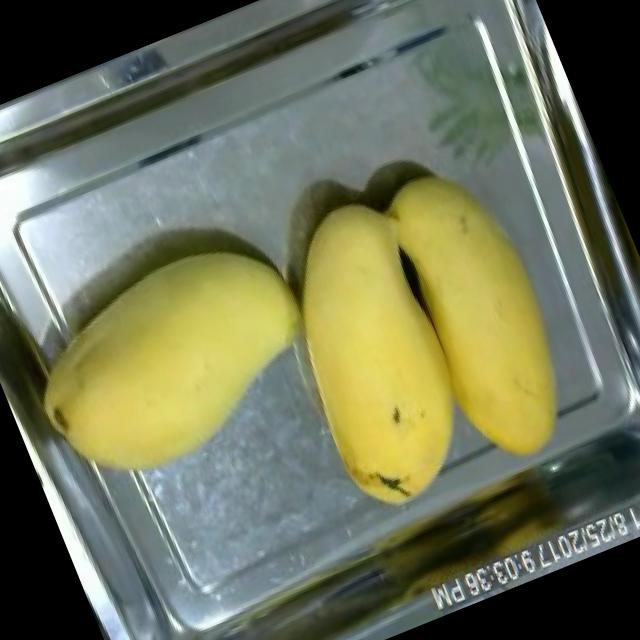fruit: (0, 201, 355, 512), (236, 172, 504, 532), (352, 130, 606, 486)
